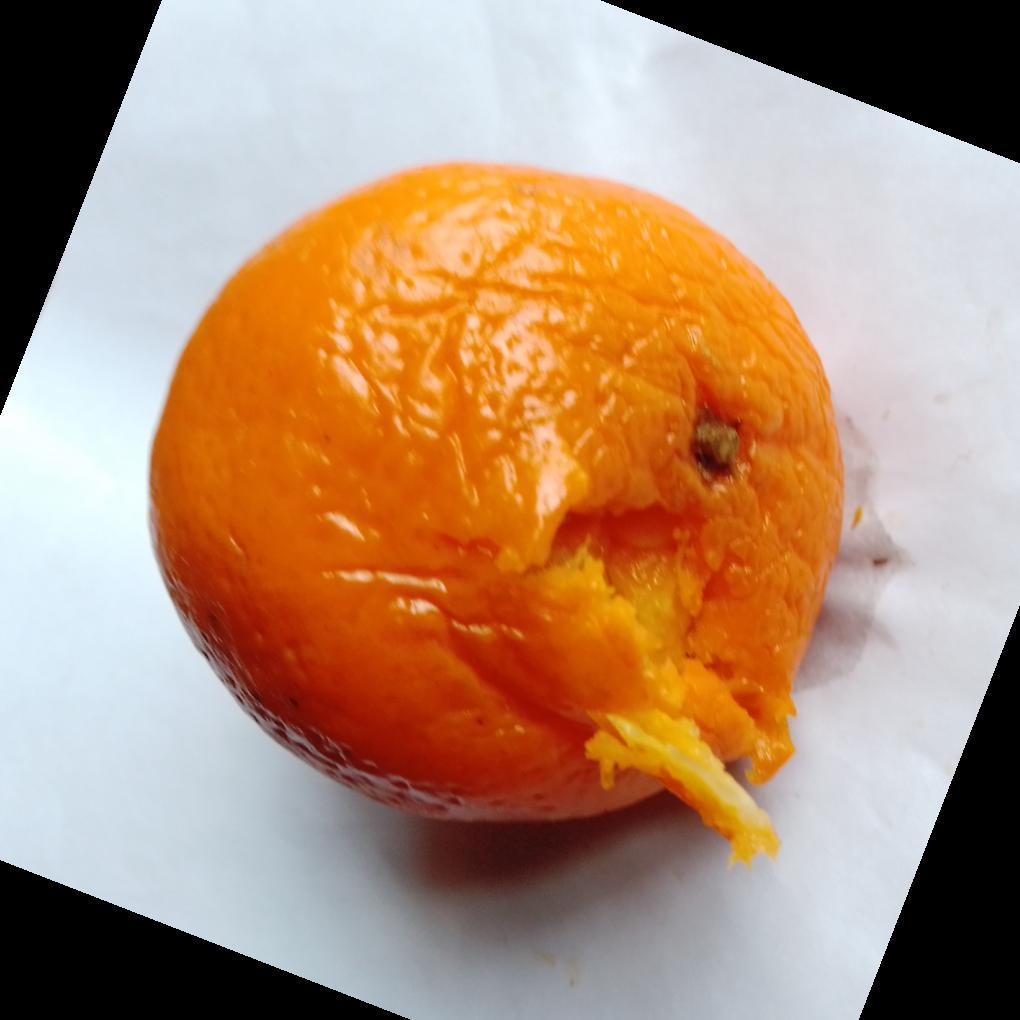FreshOrange: (147, 161, 846, 867)
